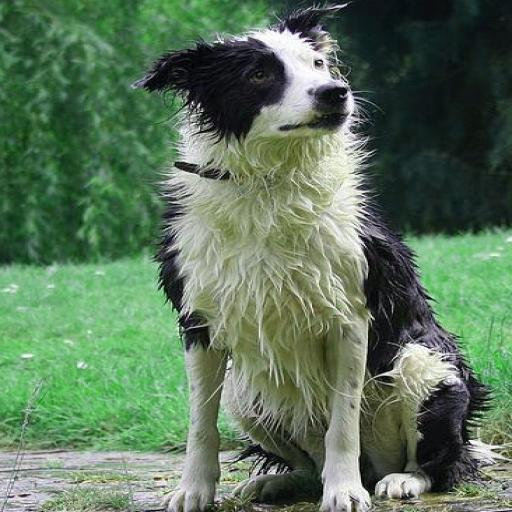dog_face: (146, 0, 351, 155)
